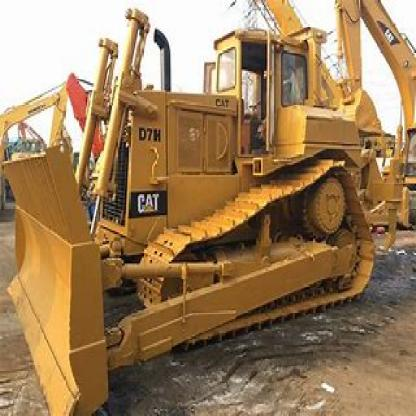bull_dozer/loader/grader: (13, 11, 389, 414)
